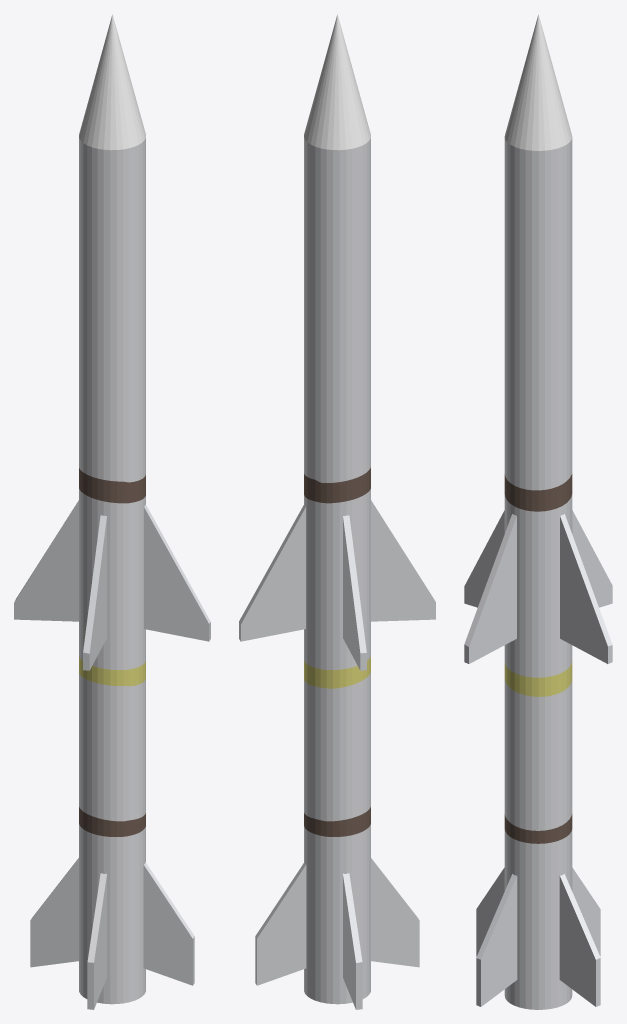
The model's file is misil.obj.
3 renders of one model, left to right at view 1: azimuth 30°, elevation 25°; view 2: azimuth 150°, elevation 25°; view 3: azimuth 270°, elevation 25°, orthographic.
Parts seen in each view (by area): view 1: misil; view 2: misil; view 3: misil.
Boxes of the visible parts, <box> form: misil: <box>14,14,210,1009</box>; misil: <box>239,14,435,1009</box>; misil: <box>464,14,612,1009</box>.
Size of the model in its own units: 2.05 by 14.95 by 2.05.
Materials: 1 (1 with a texture image).
